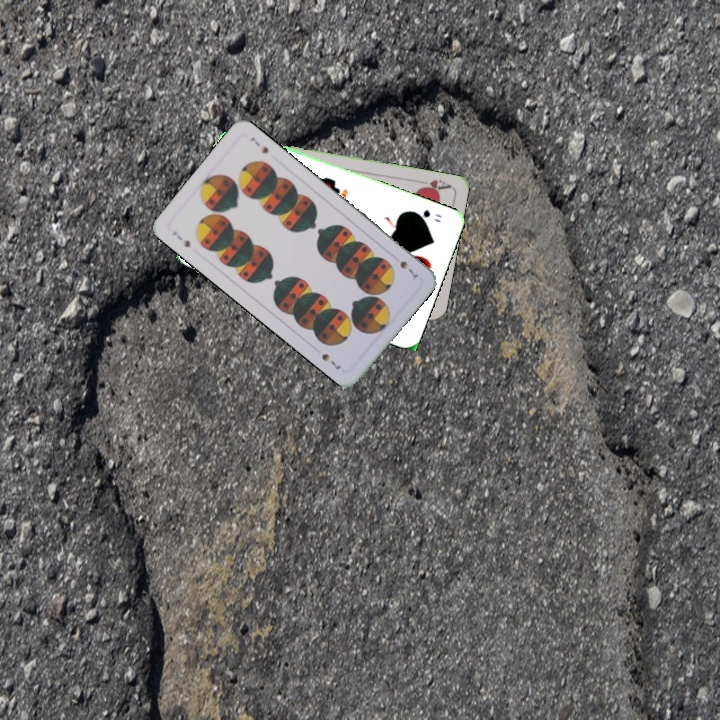GO: (408, 206, 444, 225)
HA: (413, 175, 453, 195)
S7: (168, 227, 193, 250), (396, 257, 420, 280)
